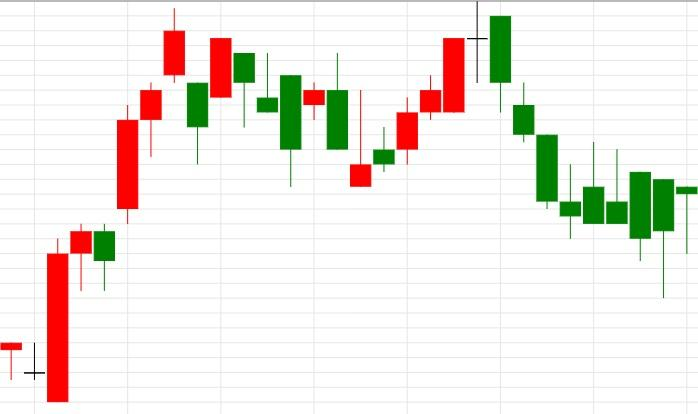evening_star_fall: (349, 0, 512, 187)
inverse_hammer_rise: (489, 15, 629, 239), (209, 37, 372, 188)
